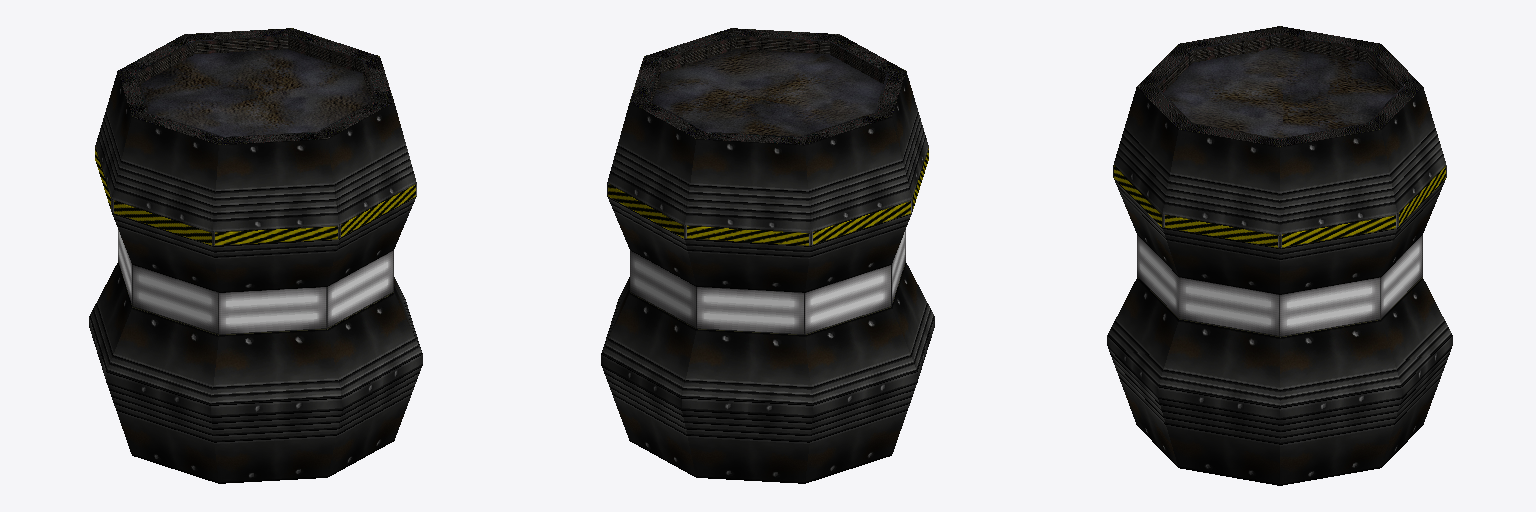
3 renders of one model, left to right at view 1: azimuth 30°, elevation 25°; view 2: azimuth 150°, elevation 25°; view 3: azimuth 270°, elevation 25°, orthographic.
Parts seen in each view (by area): view 1: MSH_cylind; view 2: MSH_cylind; view 3: MSH_cylind.
Part boxes in pixels (left/top/right/bottom): MSH_cylind: left=89, top=28, right=422, bottom=483; MSH_cylind: left=601, top=28, right=934, bottom=483; MSH_cylind: left=1107, top=26, right=1452, bottom=485.
Bounding box in the file's own units: 3.69 × 4 × 3.69.
1 materials, 1 textured.